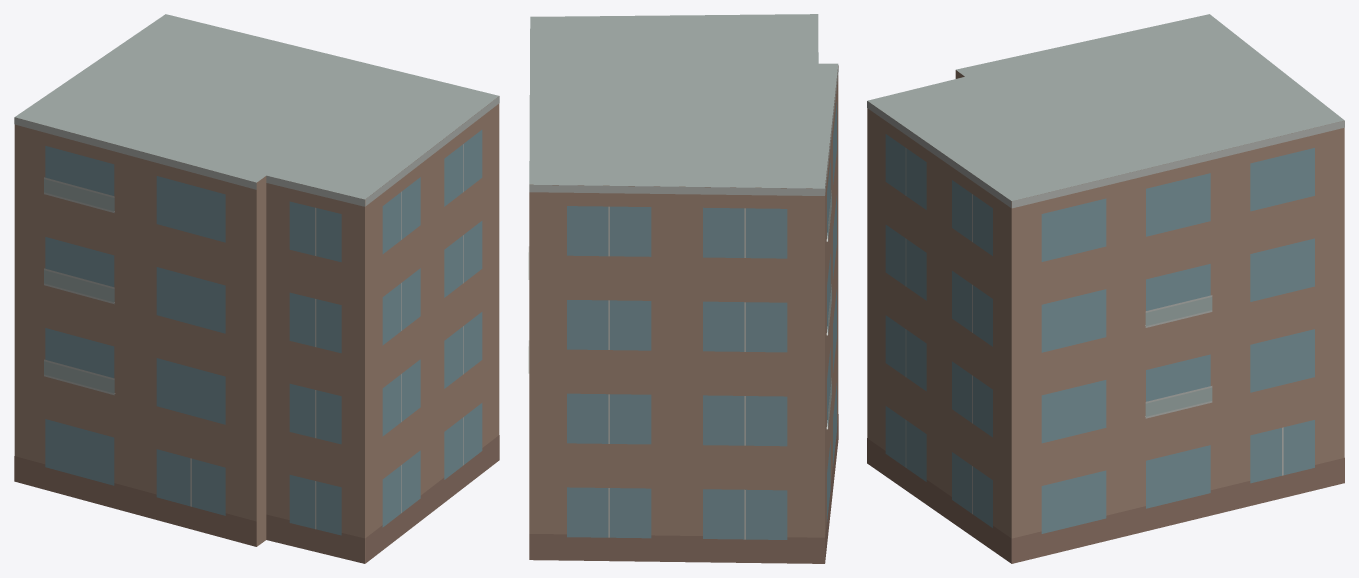
Rendered from survey-upis-32709382.glb.
3 renders of one model, left to right at view 1: azimuth 30°, elevation 25°; view 2: azimuth 150°, elevation 25°; view 3: azimuth 270°, elevation 25°, orthographic. The views are drawn at different scales.
Parts seen in each view (by area): view 1: survey-upis-32709382.tmp; view 2: survey-upis-32709382.tmp; view 3: survey-upis-32709382.tmp.
Boxes of the visible parts, bbox=[...] form: survey-upis-32709382.tmp: bbox=[14, 14, 499, 563]; survey-upis-32709382.tmp: bbox=[528, 14, 838, 563]; survey-upis-32709382.tmp: bbox=[867, 14, 1344, 563].
Bounding box in the file's own units: 13.52 × 12.2 × 14.57.
